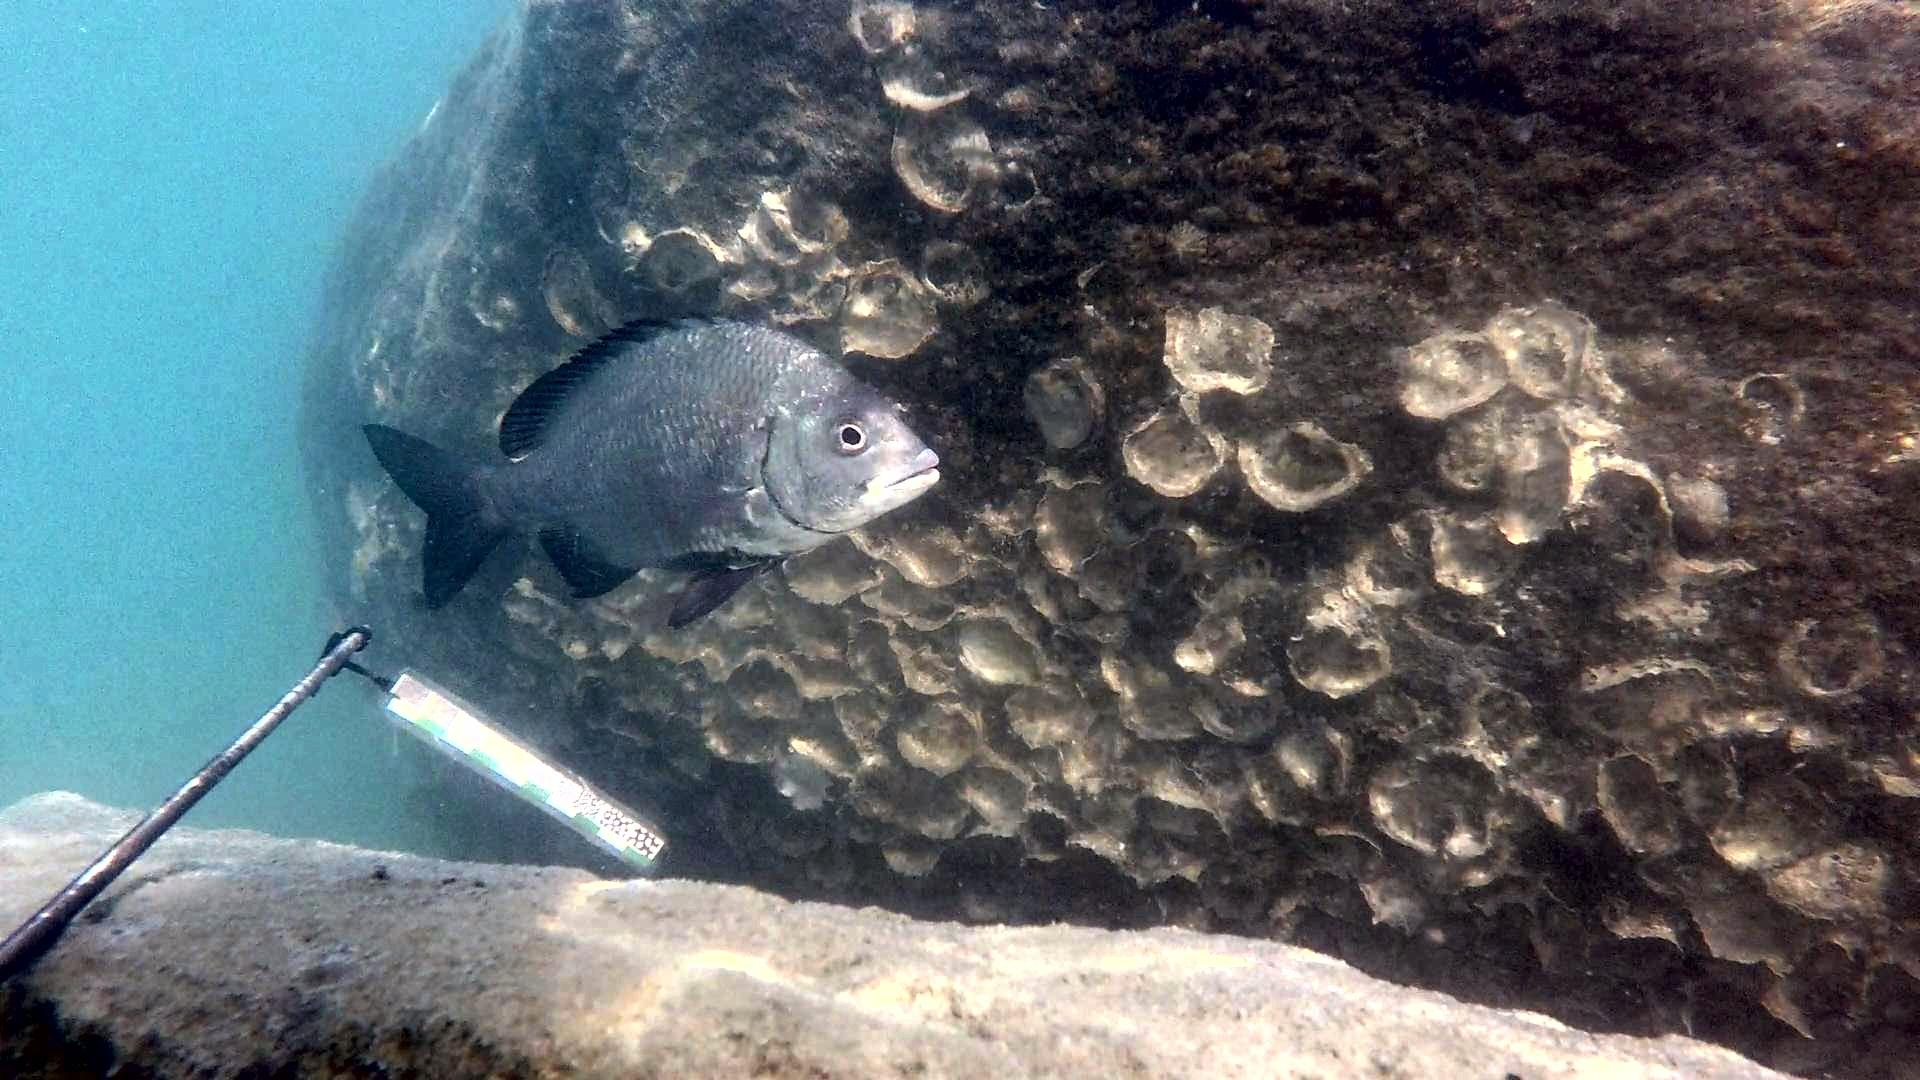acanthopagrus palmaris: (360, 303, 952, 637)
